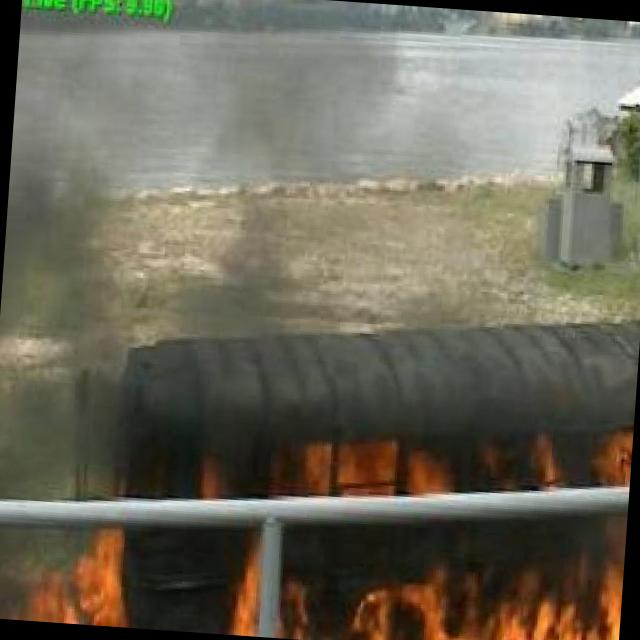Fire: (341, 549, 620, 640), (1, 532, 140, 628), (264, 431, 450, 501), (467, 429, 632, 492), (225, 531, 315, 640)
